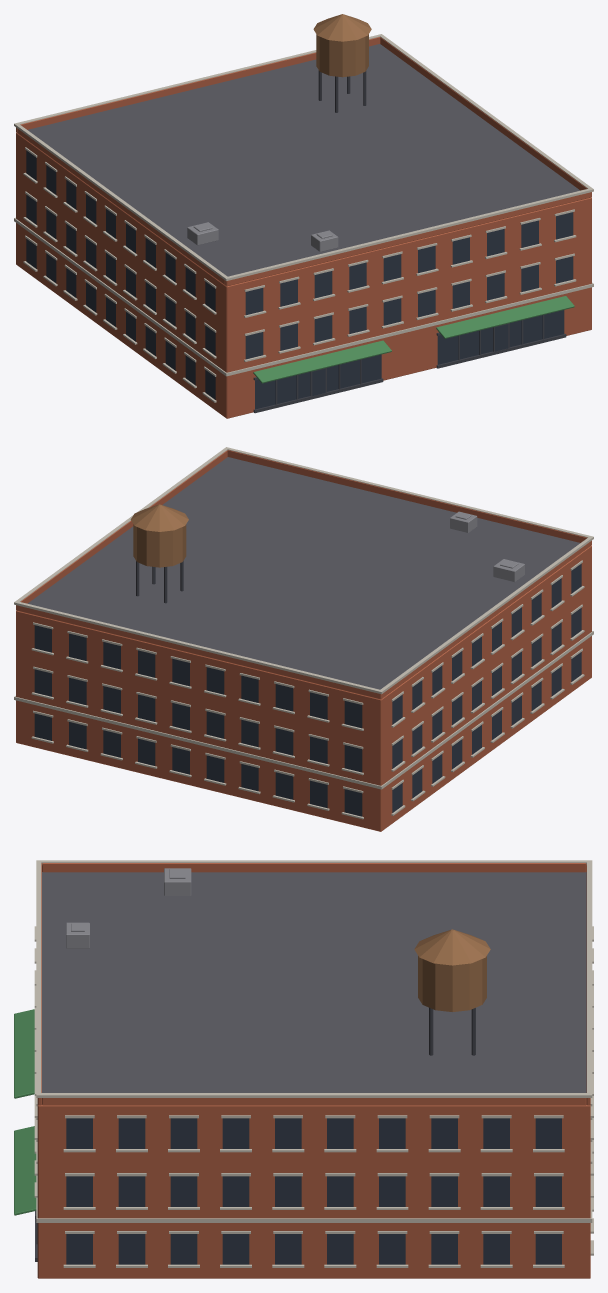
File: BrickBlock.fbx
The picture shows the model from 3 angles, top to bottom: view 1: azimuth 30°, elevation 25°; view 2: azimuth 150°, elevation 25°; view 3: azimuth 270°, elevation 25°; orthographic projection. The views are drawn at different scales.
Visible parts, largest first — view 1: BrickBlock_Roof, BrickBlock_Body, BrickBlock_Windows, BrickBlock_Trim, BrickBlock_Awning, BrickBlock_WaterTower, BrickBlock_Frame, BrickBlock_RoofUnits, BrickBlock_Door; view 2: BrickBlock_Roof, BrickBlock_Body, BrickBlock_Windows, BrickBlock_Trim, BrickBlock_WaterTower, BrickBlock_RoofUnits; view 3: BrickBlock_Roof, BrickBlock_Body, BrickBlock_Windows, BrickBlock_Trim, BrickBlock_WaterTower, BrickBlock_Awning, BrickBlock_RoofUnits, BrickBlock_Frame.
Boxes of the visible parts, bbox=[...] form: BrickBlock_Roof: bbox=[28, 44, 579, 276]; BrickBlock_Body: bbox=[16, 37, 591, 418]; BrickBlock_Windows: bbox=[26, 150, 573, 409]; BrickBlock_Trim: bbox=[14, 34, 593, 402]; BrickBlock_Awning: bbox=[253, 296, 574, 383]; BrickBlock_WaterTower: bbox=[313, 14, 371, 77]; BrickBlock_Frame: bbox=[253, 70, 566, 413]; BrickBlock_RoofUnits: bbox=[187, 222, 338, 251]; BrickBlock_Door: bbox=[312, 324, 508, 395]; BrickBlock_Roof: bbox=[28, 457, 580, 689]; BrickBlock_Body: bbox=[16, 450, 591, 831]; BrickBlock_Windows: bbox=[34, 563, 581, 816]; BrickBlock_Trim: bbox=[14, 447, 593, 819]; BrickBlock_WaterTower: bbox=[130, 504, 188, 567]; BrickBlock_RoofUnits: bbox=[450, 511, 524, 582]; BrickBlock_Roof: bbox=[42, 872, 586, 1092]; BrickBlock_Body: bbox=[37, 863, 590, 1278]; BrickBlock_Windows: bbox=[66, 1118, 561, 1264]; BrickBlock_Trim: bbox=[34, 860, 593, 1267]; BrickBlock_WaterTower: bbox=[414, 929, 490, 1011]; BrickBlock_Awning: bbox=[14, 1009, 36, 1215]; BrickBlock_RoofUnits: bbox=[66, 868, 191, 948]; BrickBlock_Frame: bbox=[35, 1007, 475, 1261].
Size of the model in its own units: 105 by 60.3 by 109.
